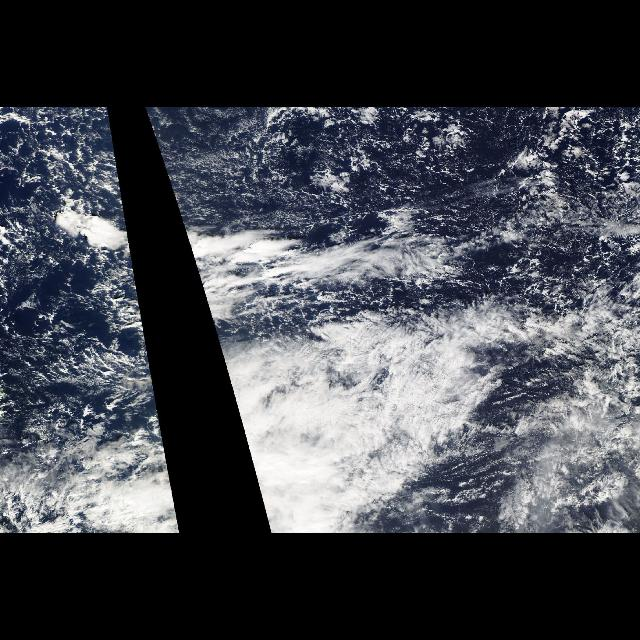Gravel: (145, 107, 640, 427), (1, 108, 163, 428)
